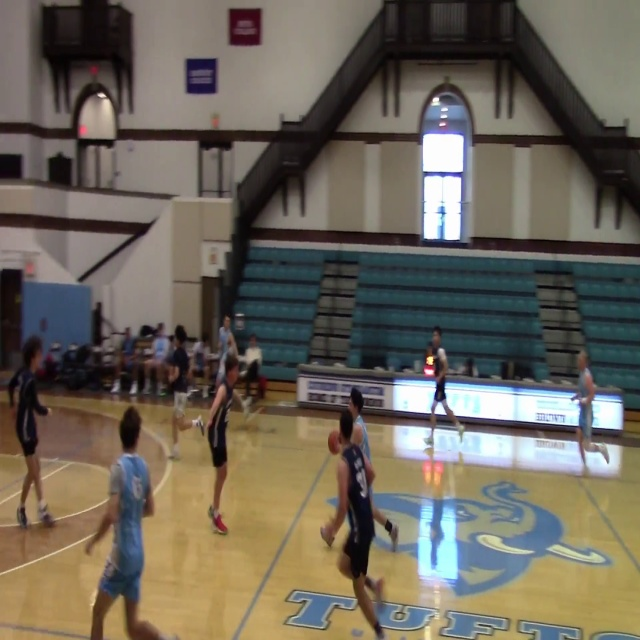Basketball: (337, 552, 355, 579), (328, 430, 341, 454)
